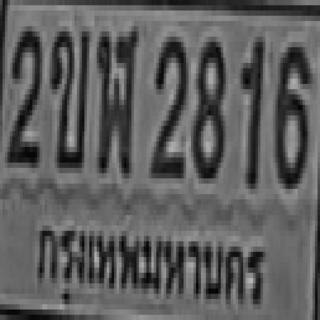A02: (50, 26, 87, 163)
A42: (94, 23, 136, 170)
N01: (238, 34, 263, 181)
N02: (149, 31, 186, 173), (5, 21, 40, 163)
N06: (273, 39, 308, 181)
N08: (191, 37, 223, 173)
P04: (29, 198, 270, 320)
